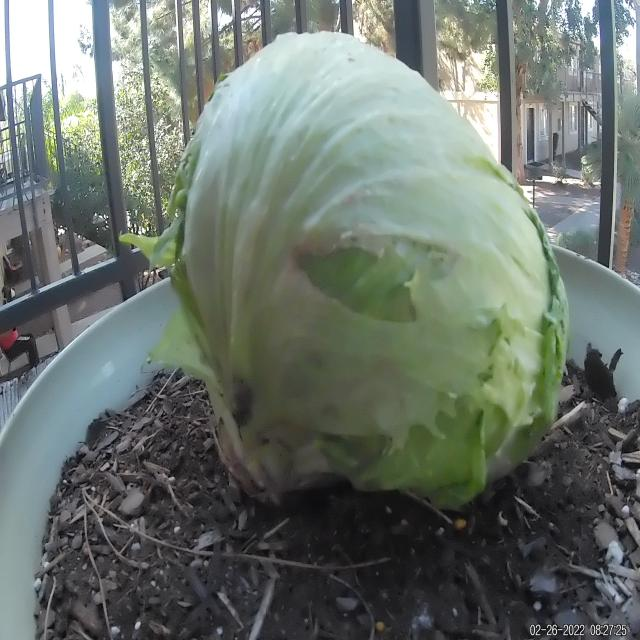cabbage: (163, 24, 572, 515)
